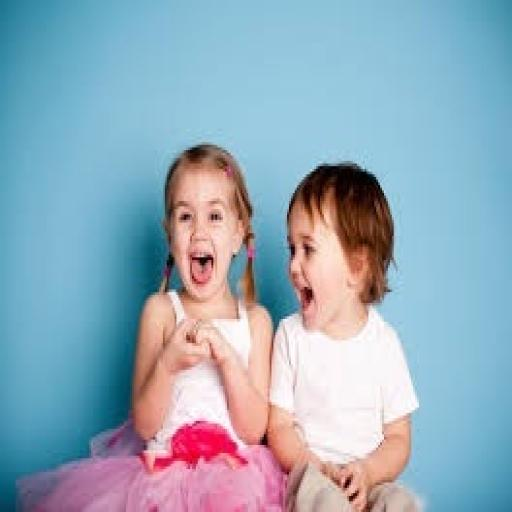laughing: (18, 124, 430, 510)
